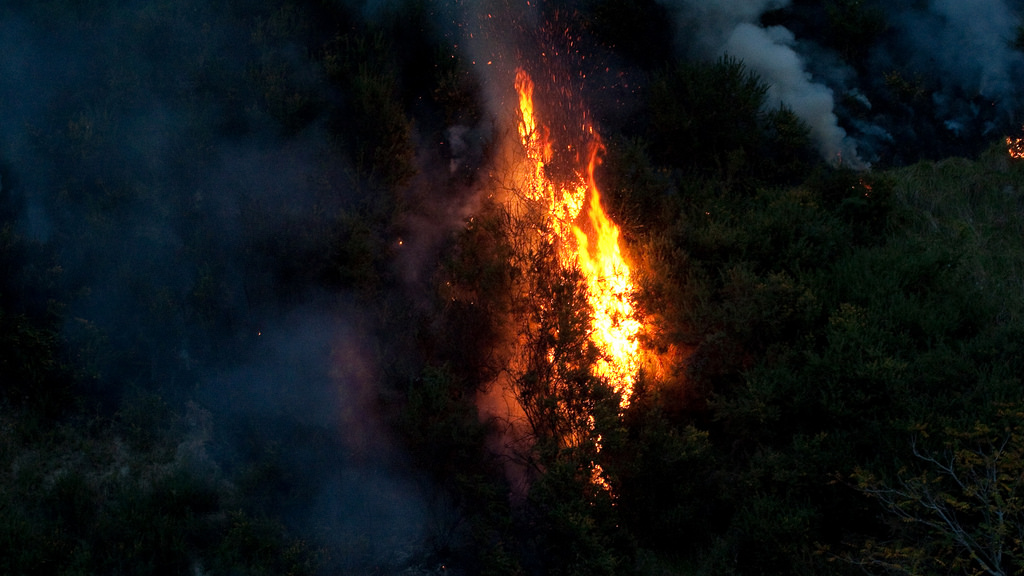fire: (462, 54, 711, 441)
